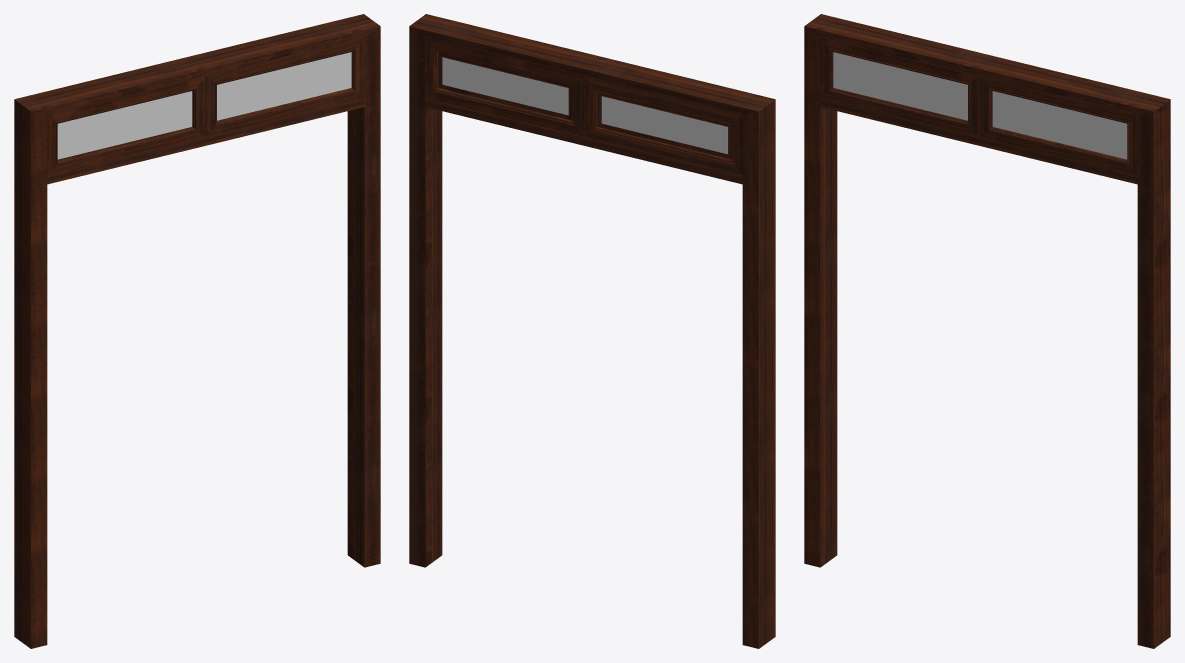
File: DoorFrame.fbx
3 renders of one model, left to right at view 1: azimuth 30°, elevation 25°; view 2: azimuth 150°, elevation 25°; view 3: azimuth 330°, elevation 25°, orthographic.
Visible parts, largest first — view 1: Wood Glass Double Door; view 2: Wood Glass Double Door; view 3: Wood Glass Double Door.
Part boxes in pixels (<box>): Wood Glass Double Door: <box>14,14,380,648</box>; Wood Glass Double Door: <box>409,14,775,648</box>; Wood Glass Double Door: <box>804,14,1170,648</box>.
Bounding box in the file's own units: 556 × 816 × 47.55.
